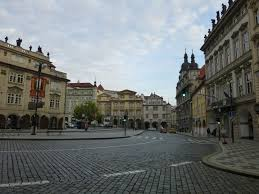strada: (3, 138, 246, 194)
